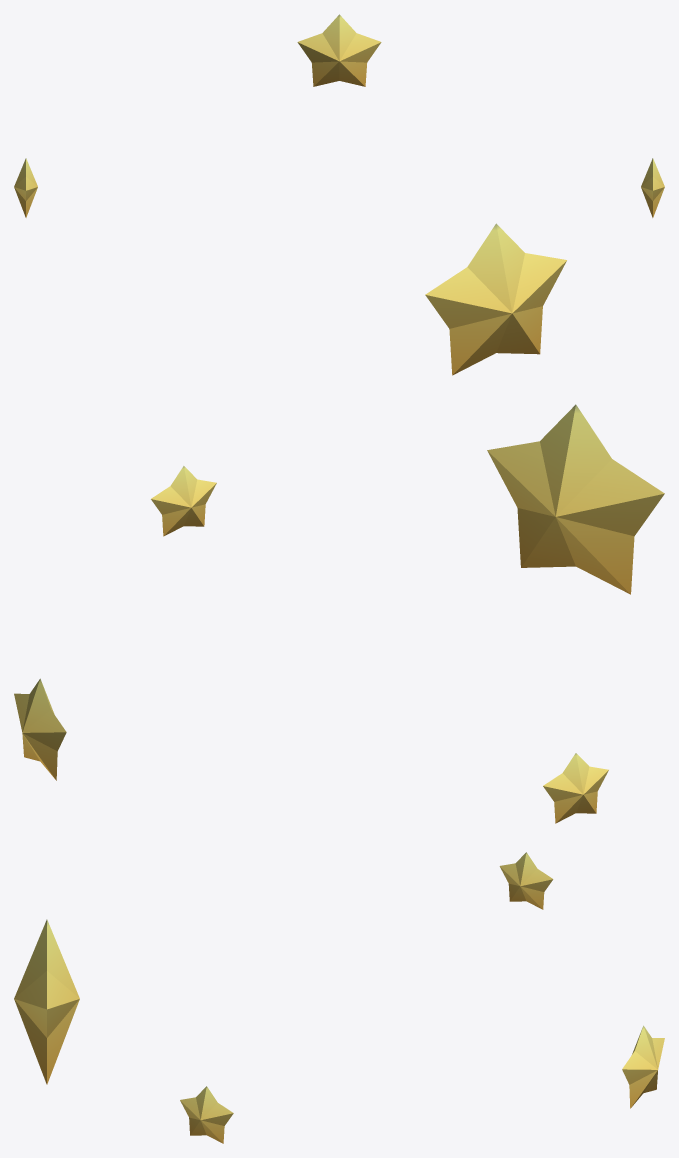
Rendered from msja-effect-dizzy-0426.glb.
The picture shows the model from 3 angles, top to bottom: view 1: azimuth 30°, elevation 25°; view 2: azimuth 150°, elevation 25°; view 3: azimuth 270°, elevation 25°; orthographic projection. The views are drawn at different scales.
Parts seen in each view (by area): view 1: Cylinder.003; view 2: Cylinder.003; view 3: Cylinder.003.
Boxes of the visible parts, x1=… form: Cylinder.003: x1=14, y1=14, x2=664, y2=375; Cylinder.003: x1=14, y1=404, x2=664, y2=823; Cylinder.003: x1=14, y1=852, x2=664, y2=1143.
Bounding box in the file's own units: 0.9933 × 0.2706 × 1.11.
Materials: 1 (1 with a texture image).
